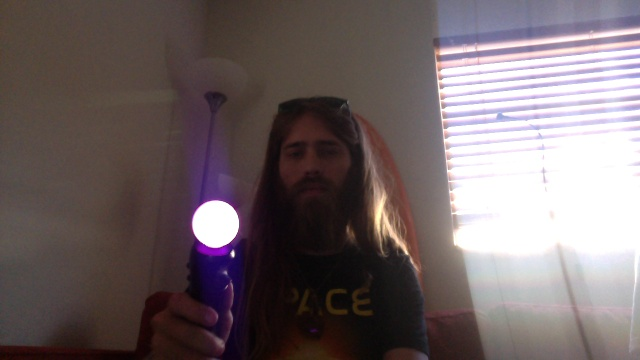wand: (193, 200, 240, 248)
